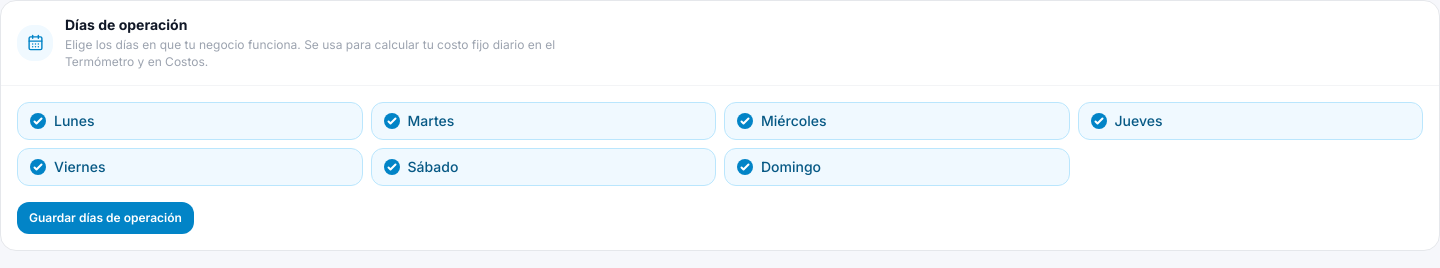
Test: OperatingDaysSettings — guardar › en éxito, aplica el negocio actualizado con patchBusiness y muestra "Guardado"
The image size is (1440, 268).
Step 1. Click the button "Guardar días de operación" → (105, 218), box [17,202,194,234]
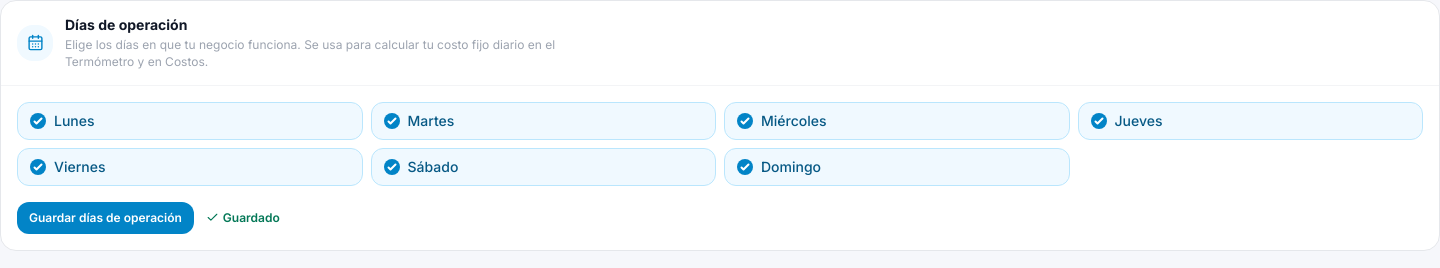
Check: the text "Guardado" is shown, box [206,210,280,226]
